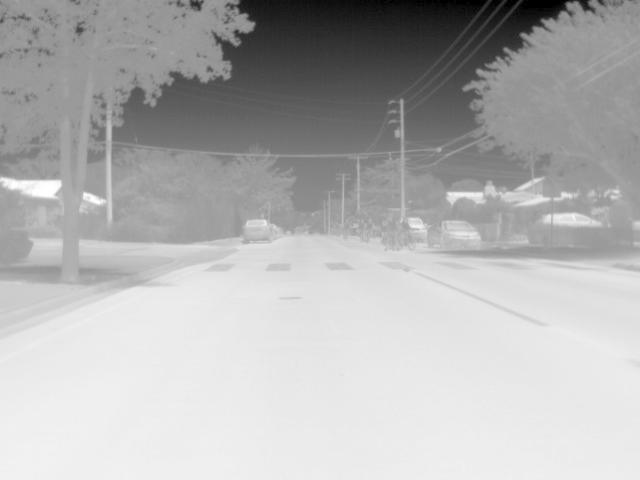car: (429, 218, 482, 252), (239, 214, 273, 244), (553, 210, 605, 226), (406, 216, 428, 232)
person: (400, 214, 418, 234), (363, 216, 379, 234), (341, 218, 354, 236)
